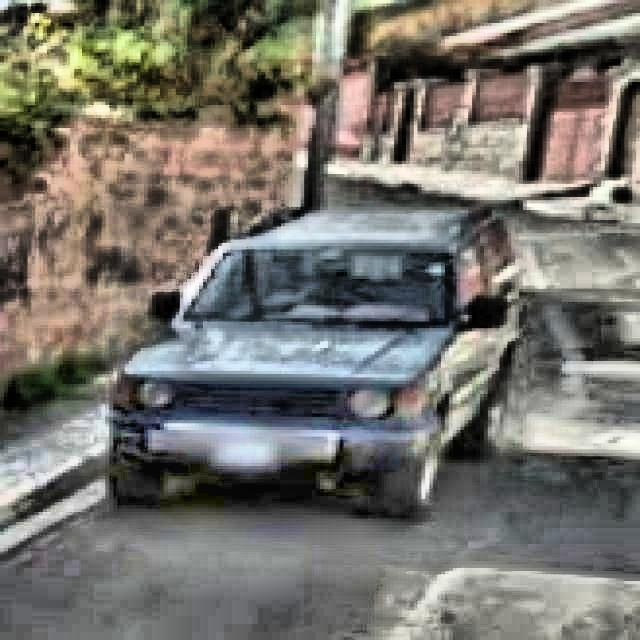carro: (122, 182, 516, 509)
